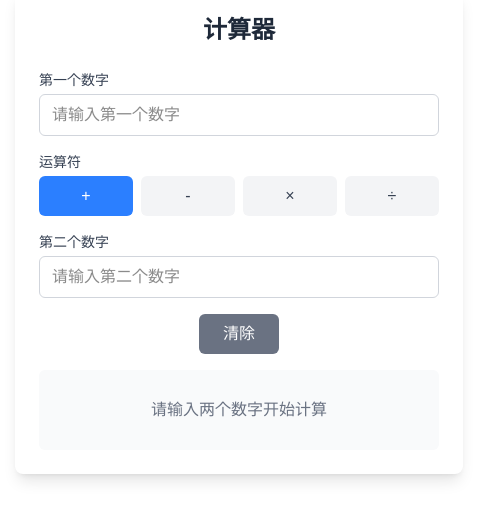
Test case: Calculator Component › 应该能够实时执行除法运算
The image size is (479, 520).
Step 1. Type "6" into the number field with placeholder "请输入第一个数字" → x=239, y=115, box left=39, top=94, right=439, bottom=136
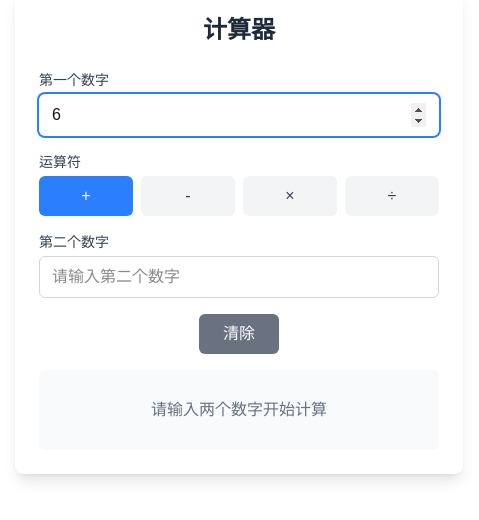
Step 2. Click the button "÷" → x=392, y=196, box left=345, top=176, right=439, bottom=216
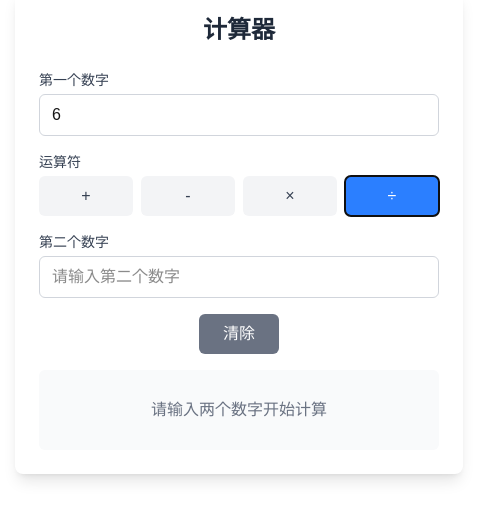
Step 3. Type "3" into the number field with placeholder "请输入第二个数字" → x=239, y=277, box left=39, top=256, right=439, bottom=298
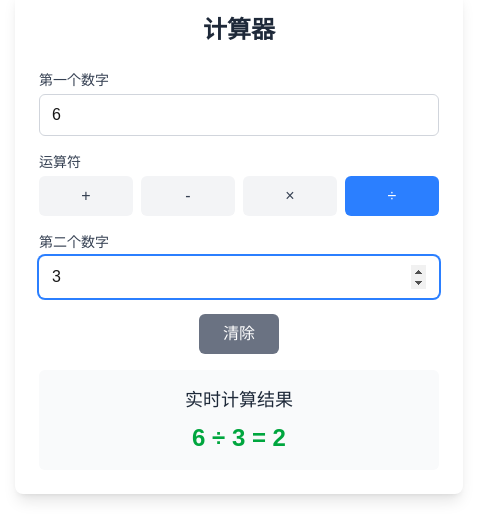
Result: the text "6 ÷ 3 = 2" is shown at left=185, top=422, right=293, bottom=454
